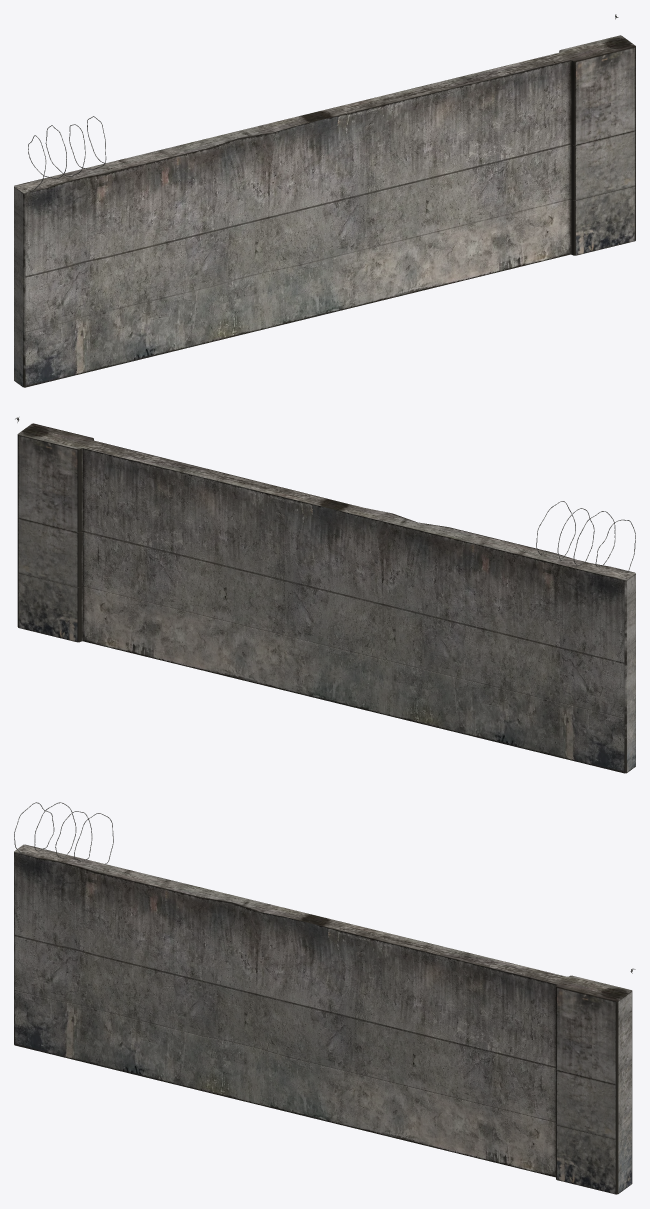
Rendered from barrier.glb.
3 views of the same model, one above another, from view 1: azimuth 30°, elevation 25°; view 2: azimuth 150°, elevation 25°; view 3: azimuth 330°, elevation 25° (orthographic).
Parts seen in each view (by area): view 1: 01_01_0, 01_02_0; view 2: 01_01_0, 01_02_0; view 3: 01_01_0, 01_02_0.
Part boxes in pixels (<box>): 01_01_0: <box>14,35,635,387</box>; 01_02_0: <box>28,14,618,191</box>; 01_01_0: <box>17,423,635,773</box>; 01_02_0: <box>15,417,635,571</box>; 01_01_0: <box>14,844,632,1194</box>; 01_02_0: <box>14,802,635,973</box>.
Size of the model in its own units: 13.15 by 5.1 by 1.15.
Materials: 2 (2 with a texture image).
